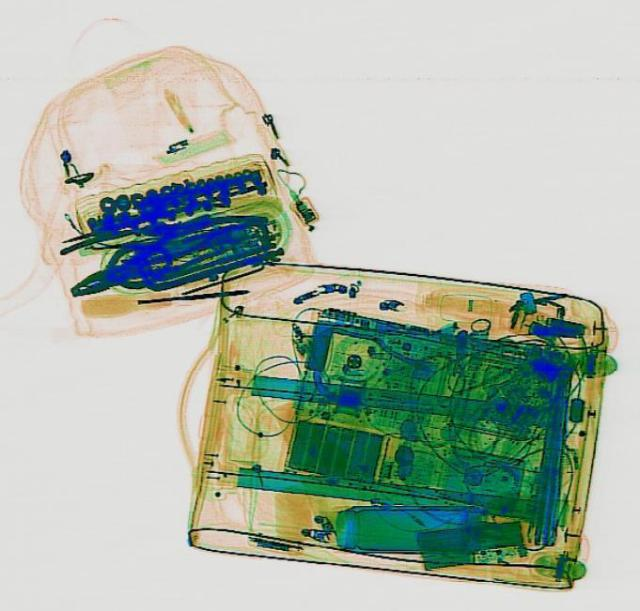Pliers: (58, 217, 222, 306)
